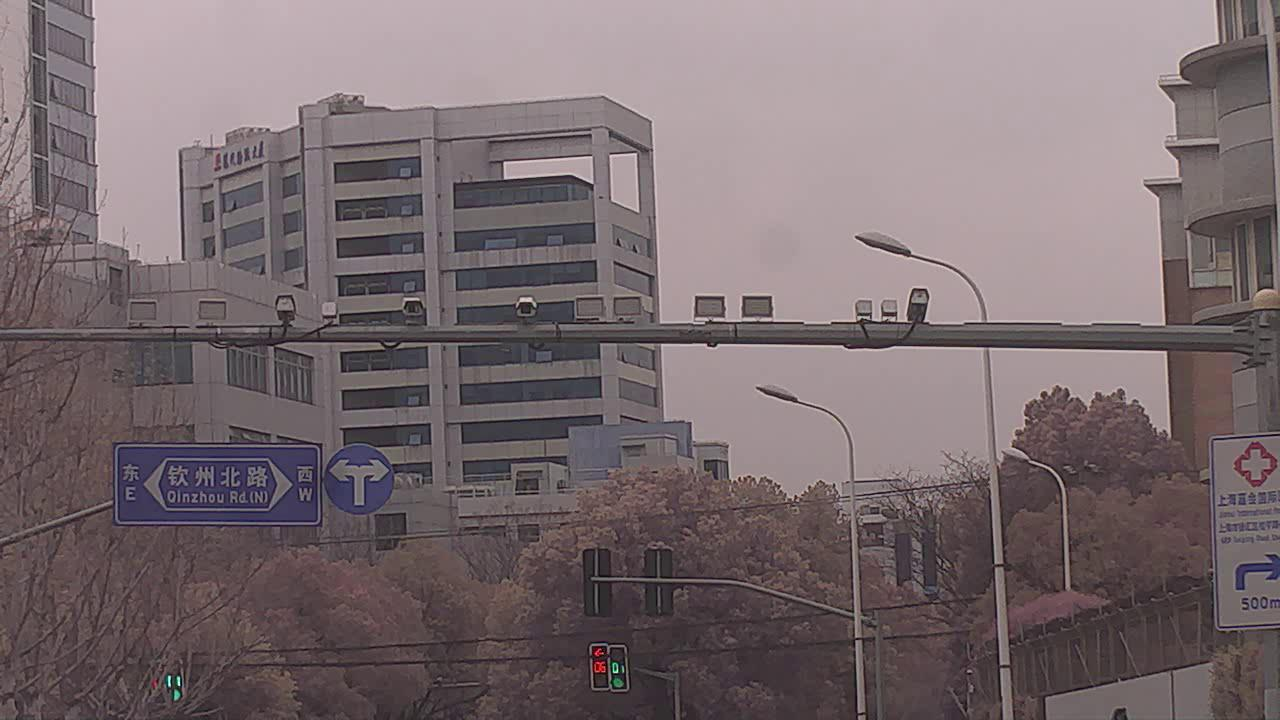traffic_light: (607, 643, 626, 687), (589, 643, 606, 692)
